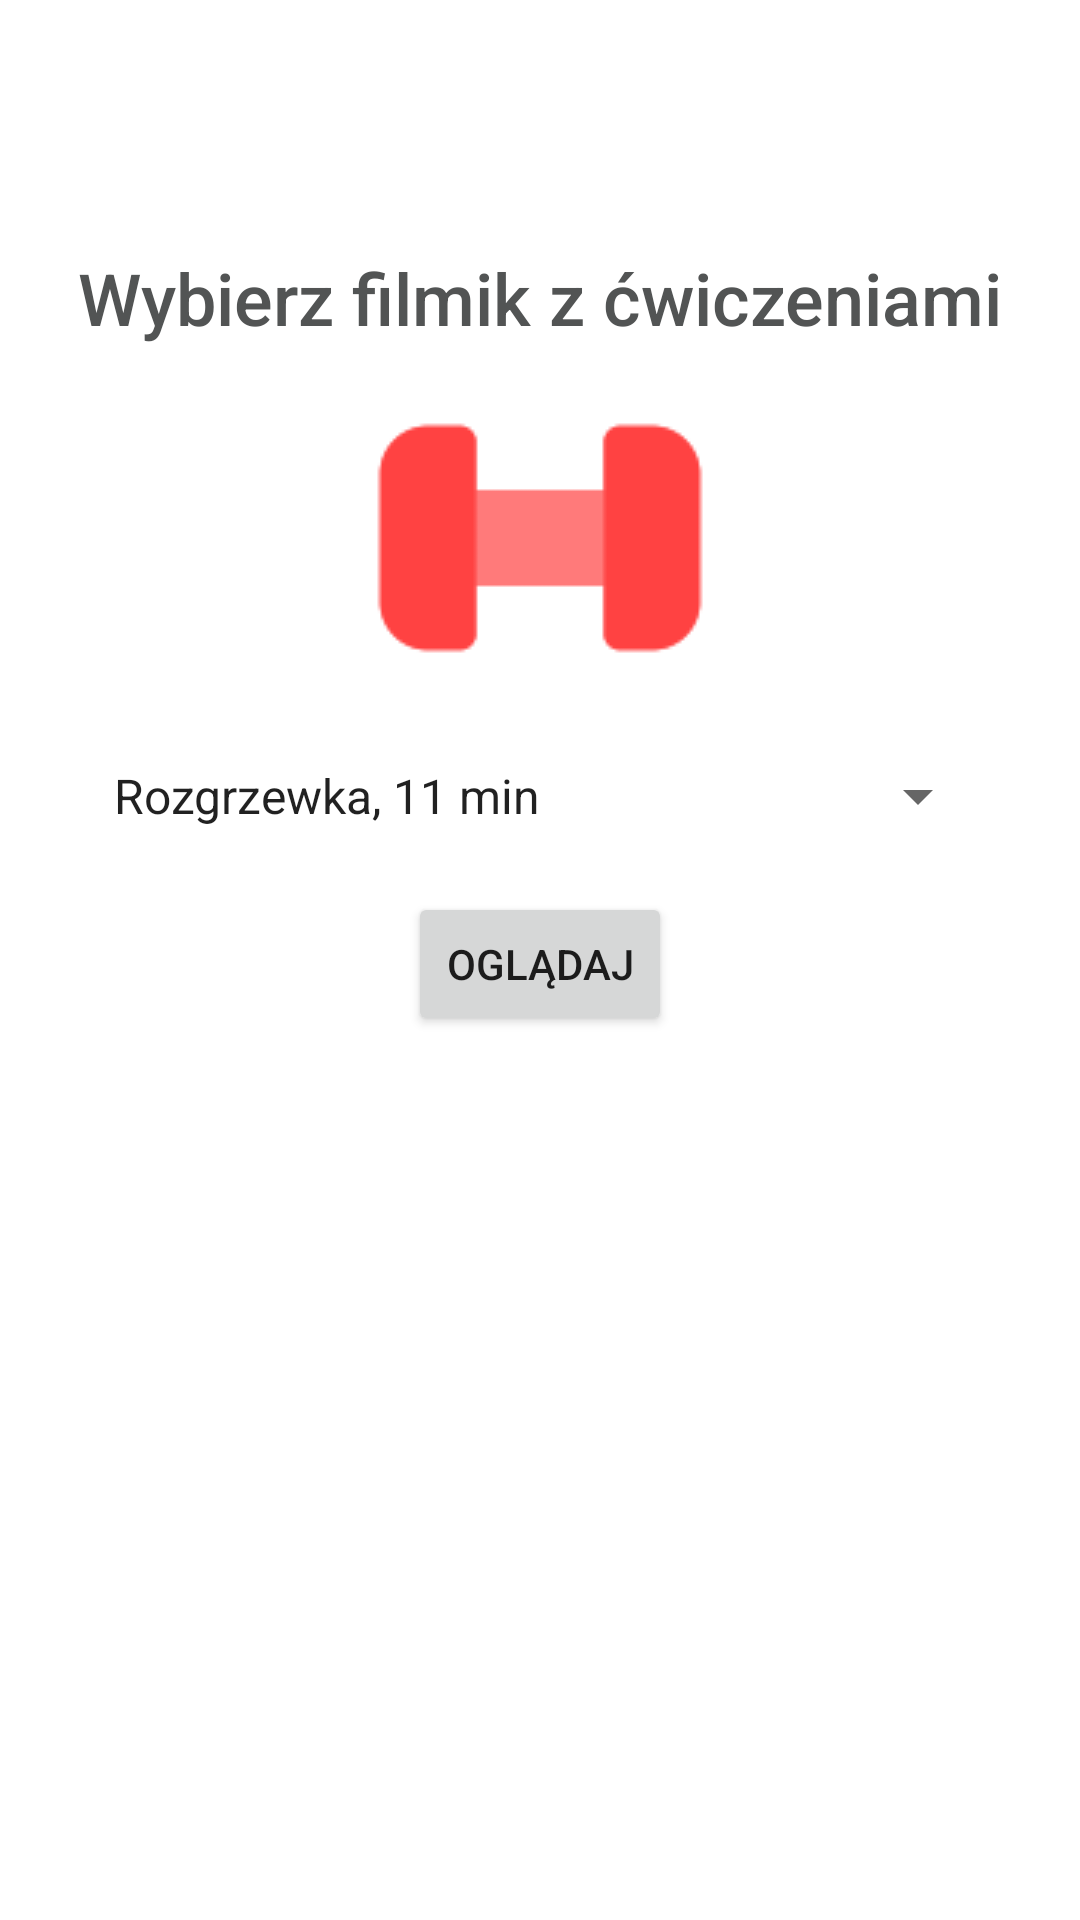

Icon bounding boxes for this 1080px x 1920px phone screenshot, format [x1,y1,x2,y2]:
exer: [377,423,703,653]
